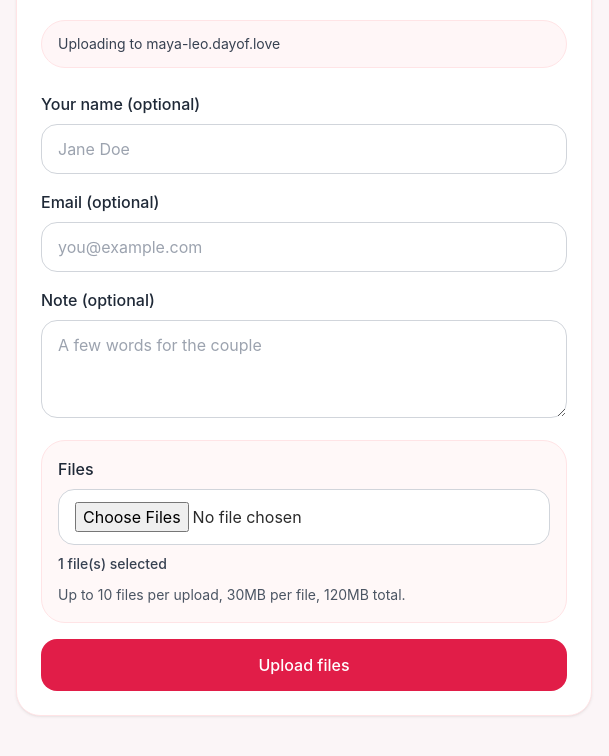
Scenario: PhotoUpload guest-safe copy › shows specific invalid-link guidance instead of collapsing it into a generic retry
This screenshot has width=609, height=756.
Earlier steps of the test are not shown.
(page scrolled)
Step 1. Click the button "Upload files" → click(304, 665), box [41, 639, 567, 691]
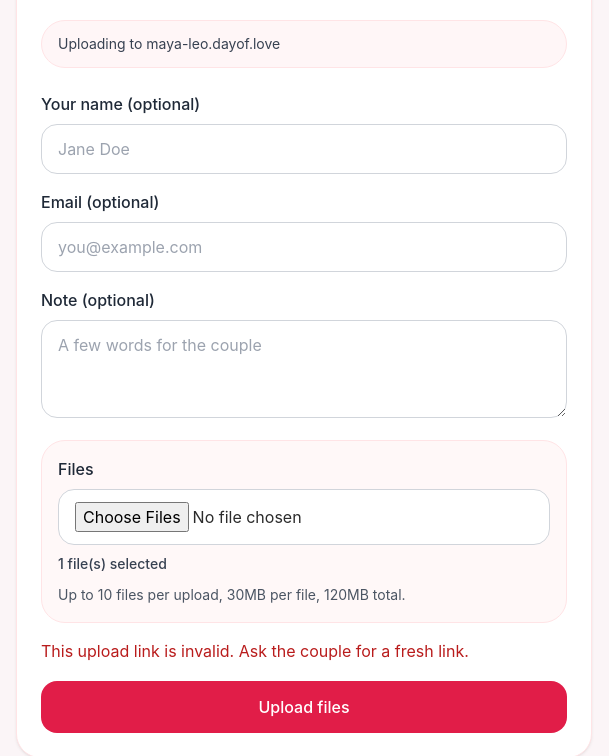
Expected: the text "This upload link is invalid. Ask the couple for a fresh link." is shown, [41, 641, 469, 661]
